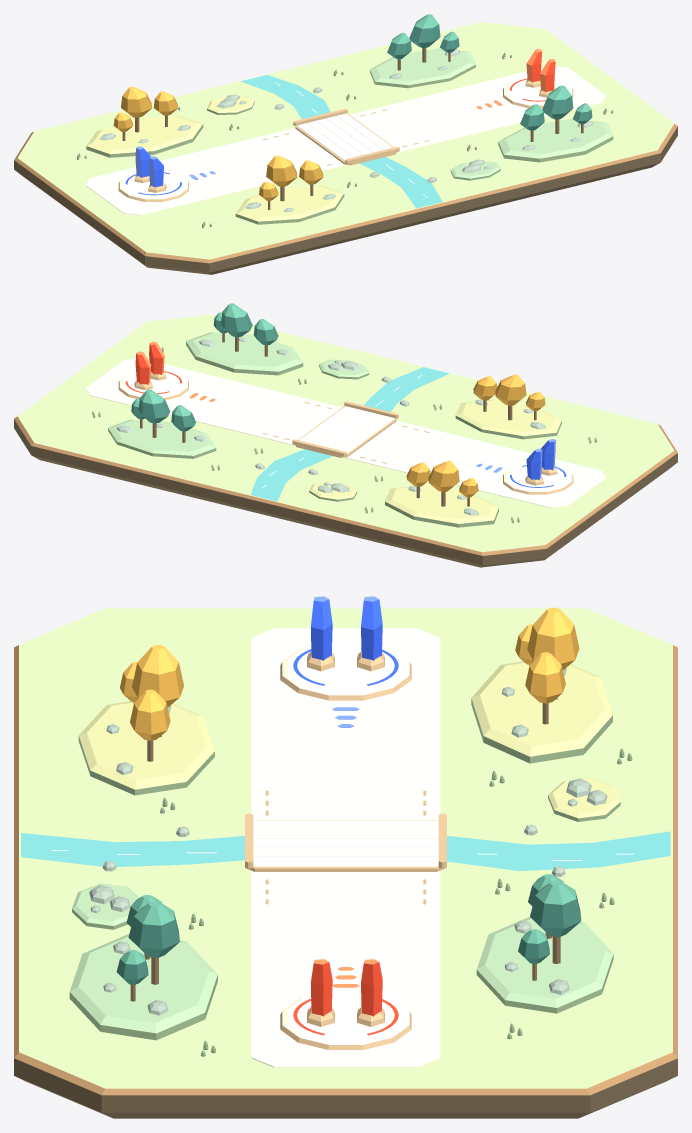
The model's file is arena.glb.
3 views of the same model, one above another, from view 1: azimuth 30°, elevation 25°; view 2: azimuth 150°, elevation 25°; view 3: azimuth 270°, elevation 25° (orthographic). The views are drawn at different scales.
Parts seen in each view (by area): view 1: Clipped earth board, Ivory lane, Grove plateau.003, Mint river, Grove plateau, Grove plateau.002, Grove plateau.001, Home • blue, Home • orange, Canopy.010, Canopy.007, Canopy.004 (+17 smaller); view 2: Clipped earth board, Ivory lane, Grove plateau.003, Mint river, Grove plateau, Grove plateau.002, Grove plateau.001, Home • blue, Home • orange, Canopy.010, Canopy.007, Canopy.004 (+16 smaller); view 3: Clipped earth board, Ivory lane, Mint river, Grove plateau.003, Grove plateau, Grove plateau.001, Grove plateau.002, Home • blue, Home • orange, Canopy.001, Canopy.010, Canopy.007 (+17 smaller).
Part boxes in pixels (<box>): Clipped earth board: <box>14,22,677,274</box>; Ivory lane: <box>85,66,606,215</box>; Grove plateau.003: <box>498,119,613,162</box>; Mint river: <box>241,75,442,208</box>; Grove plateau: <box>86,115,203,157</box>; Grove plateau.002: <box>370,48,475,88</box>; Grove plateau.001: <box>235,185,344,224</box>; Home • blue: <box>118,170,188,201</box>; Home • orange: <box>503,77,573,108</box>; Canopy.010: <box>542,85,573,119</box>; Canopy.007: <box>409,14,440,47</box>; Canopy.004: <box>266,155,297,186</box>; Clipped earth board: <box>14,314,677,567</box>; Ivory lane: <box>85,358,606,508</box>; Grove plateau.003: <box>186,332,303,375</box>; Mint river: <box>250,367,449,501</box>; Grove plateau: <box>385,485,498,527</box>; Grove plateau.002: <box>108,419,216,458</box>; Grove plateau.001: <box>455,399,561,439</box>; Home • blue: <box>503,463,573,494</box>; Home • orange: <box>118,369,188,400</box>; Canopy.010: <box>221,303,252,337</box>; Canopy.007: <box>138,389,170,423</box>; Canopy.004: <box>495,374,526,405</box>; Clipped earth board: <box>14,608,677,1118</box>; Ivory lane: <box>251,628,440,1067</box>; Mint river: <box>21,831,670,871</box>; Grove plateau.003: <box>69,934,217,1040</box>; Grove plateau: <box>471,661,612,763</box>; Grove plateau.001: <box>78,701,214,795</box>; Grove plateau.002: <box>476,916,613,1013</box>; Home • blue: <box>280,641,411,700</box>; Home • orange: <box>280,991,411,1049</box>; Canopy.001: <box>527,607,579,670</box>; Canopy.010: <box>128,901,179,957</box>; Canopy.007: <box>530,881,581,937</box>.
Size of the model in its own units: 38 by 4.67 by 22.
